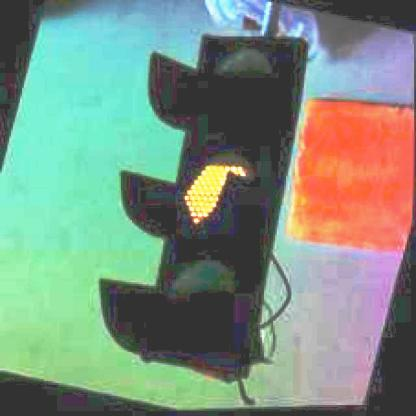Traffic Light -Yellow-: (75, 9, 336, 387)
